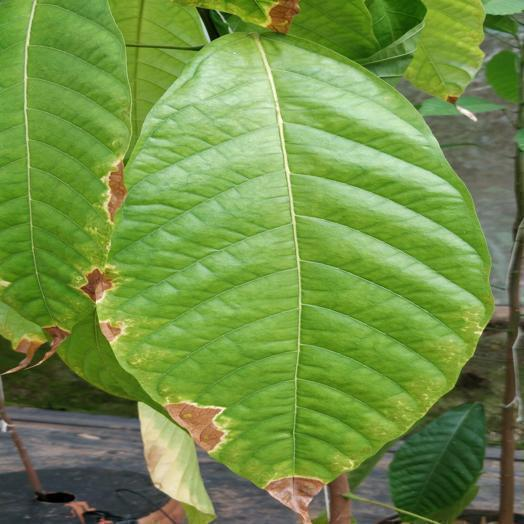Potassium: (99, 33, 490, 521), (0, 0, 131, 343)
